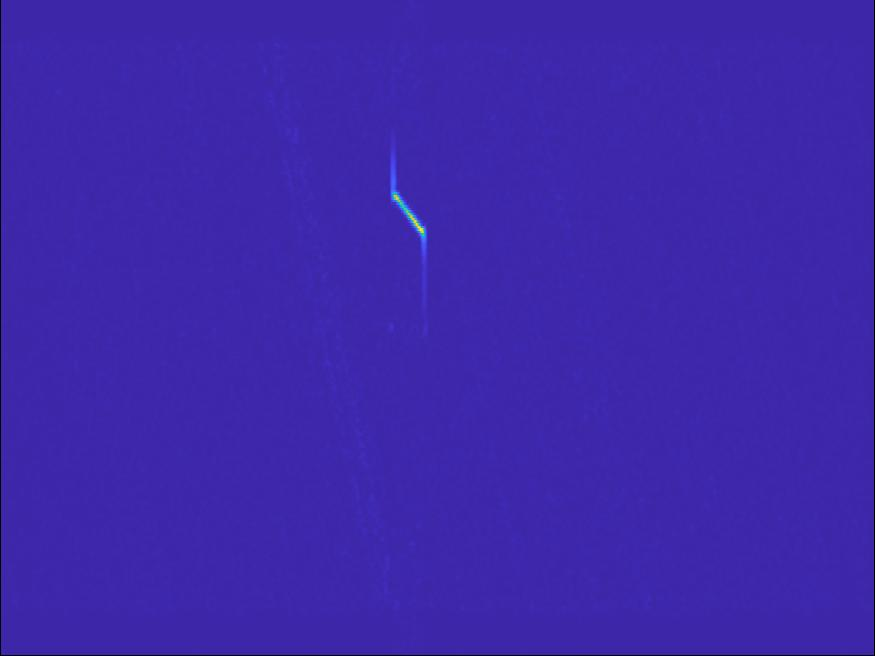Interference: (1, 1, 233, 153), (182, 484, 300, 533), (685, 115, 782, 167), (1, 307, 39, 353)
